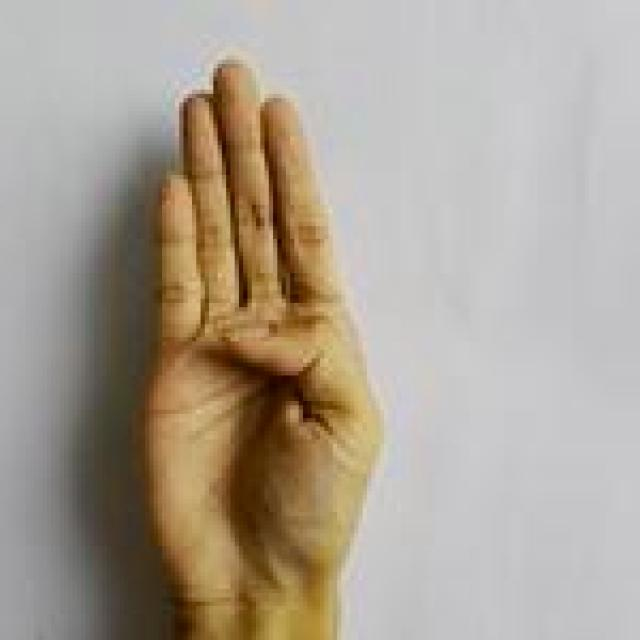B: (134, 58, 385, 637)
